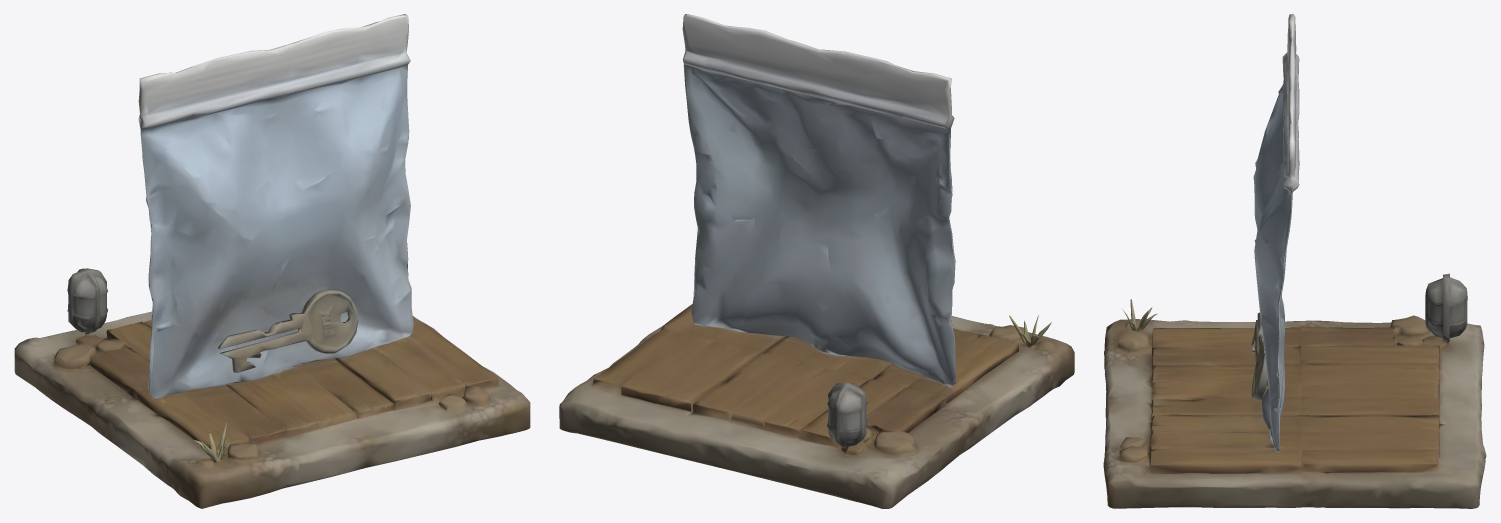
The model's file is item_evidence_bag.glb.
3 views of the same model, side by side, from view 1: azimuth 30°, elevation 25°; view 2: azimuth 150°, elevation 25°; view 3: azimuth 270°, elevation 25° (orthographic).
Parts seen in each view (by area): view 1: tripo_node_f12d05ea-f4b5-4024-8a18-b83ceb9ca21e; view 2: tripo_node_f12d05ea-f4b5-4024-8a18-b83ceb9ca21e; view 3: tripo_node_f12d05ea-f4b5-4024-8a18-b83ceb9ca21e.
Boxes of the visible parts, x1,y1,x2,y2 form: tripo_node_f12d05ea-f4b5-4024-8a18-b83ceb9ca21e: (14, 14, 530, 508); tripo_node_f12d05ea-f4b5-4024-8a18-b83ceb9ca21e: (559, 14, 1074, 508); tripo_node_f12d05ea-f4b5-4024-8a18-b83ceb9ca21e: (1103, 14, 1486, 508).
Bounding box in the file's own units: 0.9917 × 1 × 0.9791.
1 material, 1 textured.
